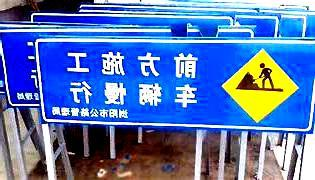sign: (37, 39, 313, 122)
